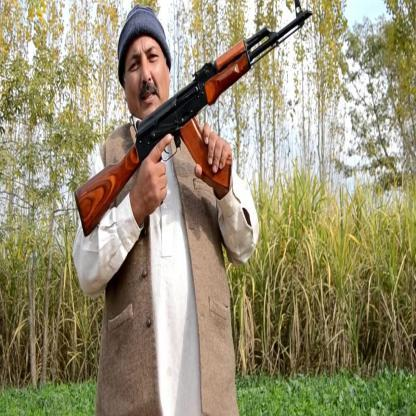Gun: (65, 0, 324, 289)
